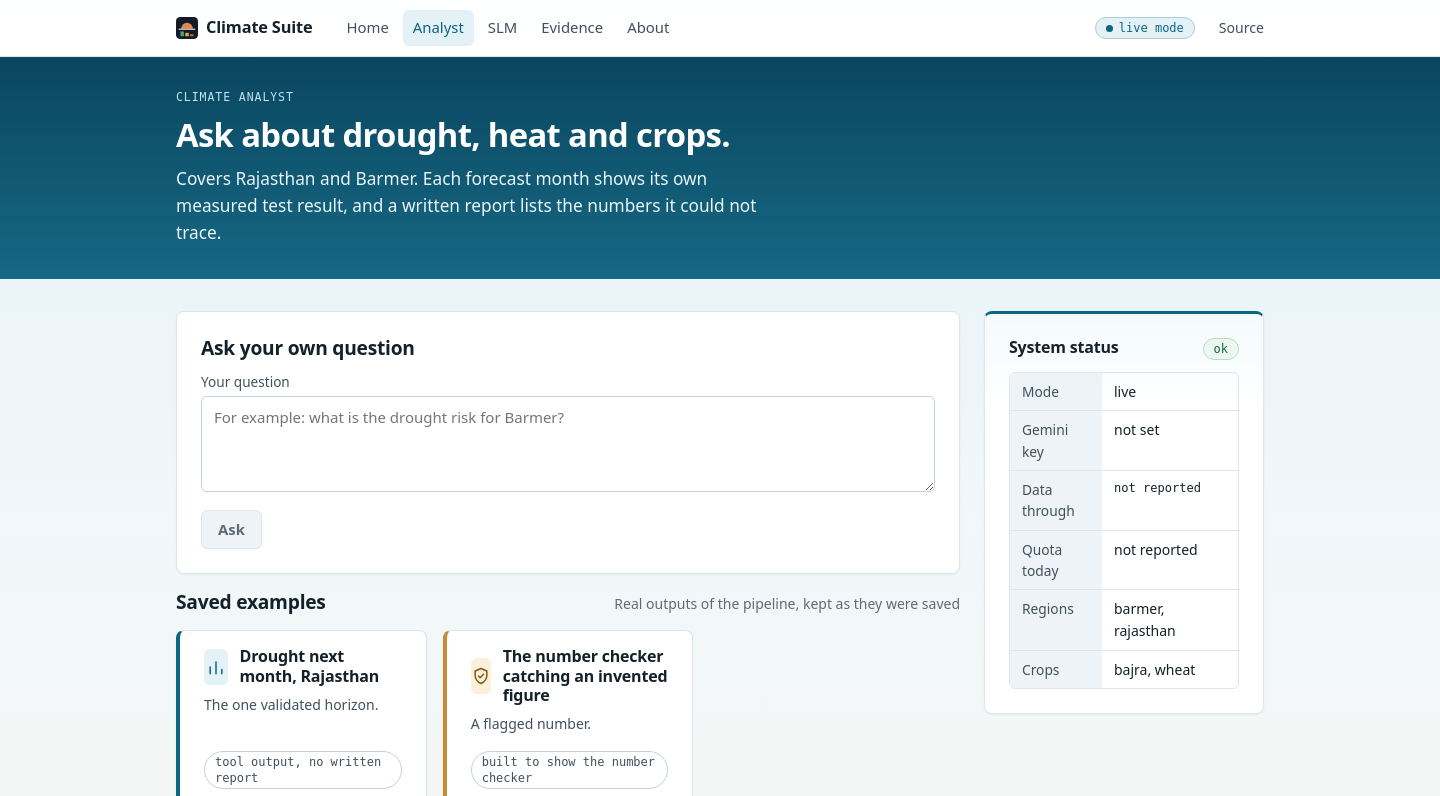
it: home page › live mode: an error message from the backend (for example a missing key) is shown, not a broken page
Type "will it rain?" into the text box at (568, 444), box top-left (201, 396), bottom-right (935, 492)
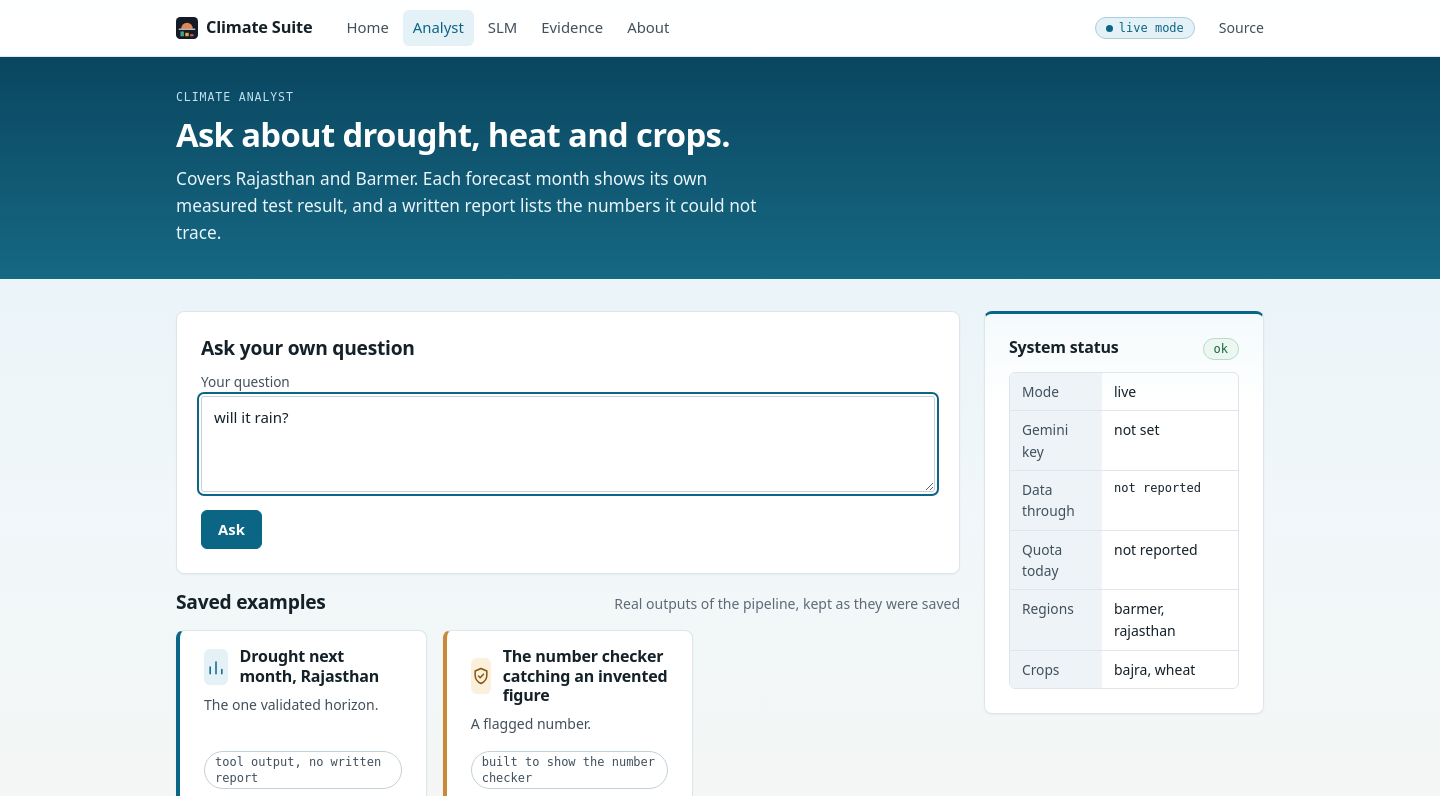
Click the button "Ask" at (231, 529), box top-left (201, 510), bottom-right (262, 549)
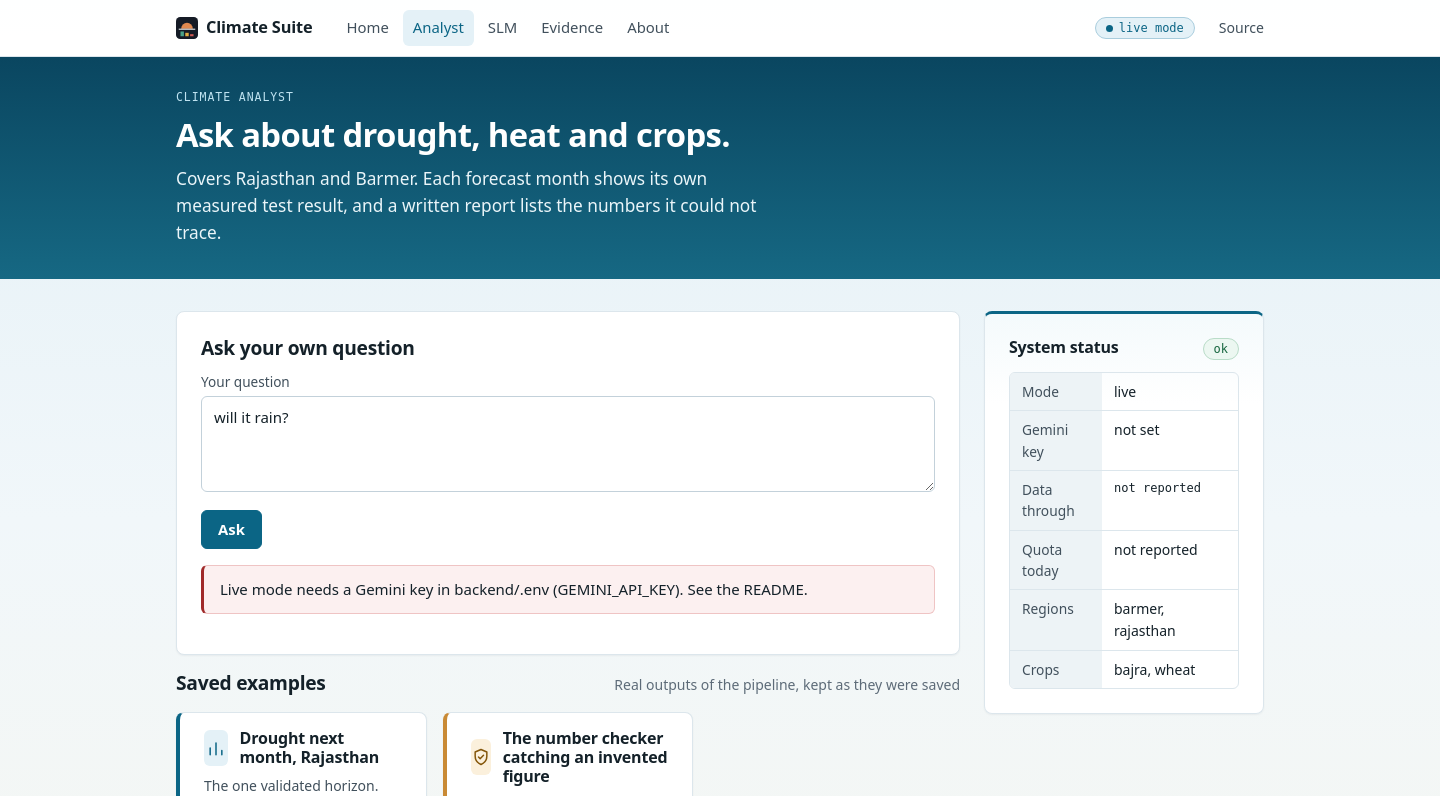
Expected: the heading "Saved examples" is shown, top-left (176, 671), bottom-right (326, 694)
Now the button "Ask" is enabled, box top-left (201, 510), bottom-right (262, 549)
Now the message reads "Live mode needs a Gemini key in backend/.env (GEMINI_API_KEY). See the README.", box top-left (220, 579), bottom-right (808, 599)
